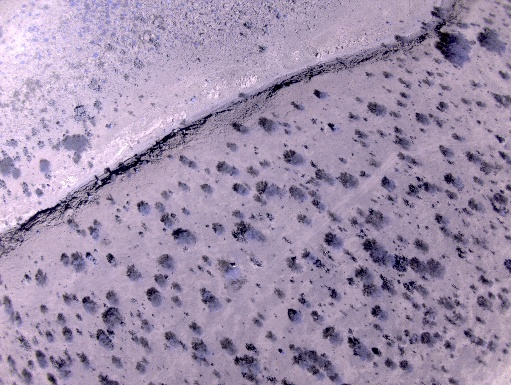agave: (190, 39, 200, 48), (275, 13, 283, 21), (273, 9, 282, 16), (93, 51, 100, 59), (190, 97, 197, 104), (135, 3, 143, 9), (108, 124, 113, 130), (284, 14, 289, 19)
